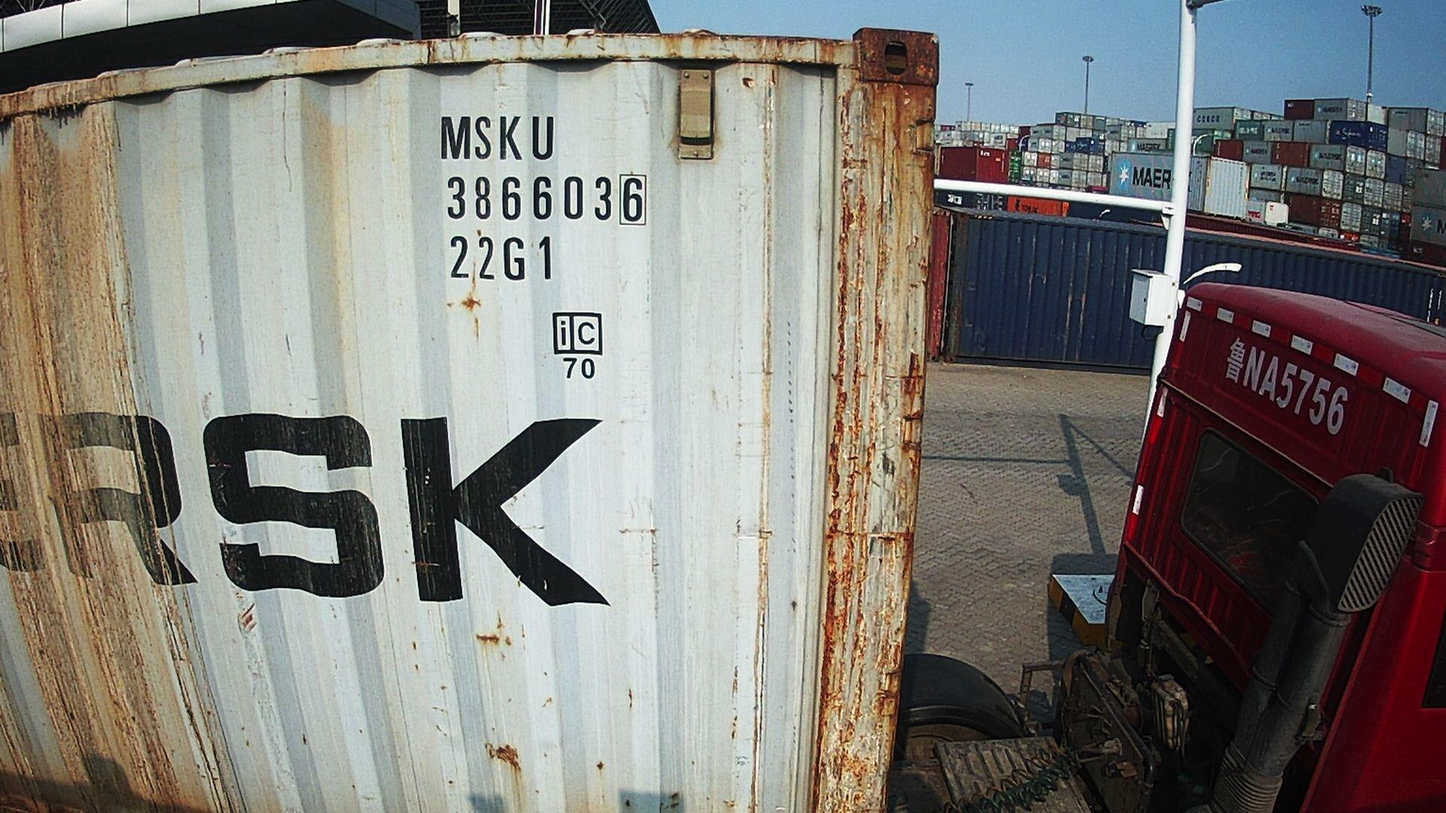container-numbers: (444, 169, 652, 229), (439, 109, 560, 163), (445, 231, 558, 285)
